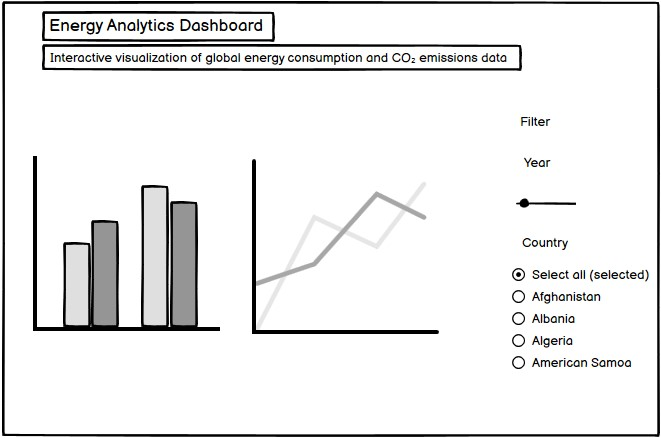

The dashboard page shown, as its layout file describes it:
{"tool":"powerbi","page":{"name":"Comparison","canvas":[1280,720],"ordinal":2},"visuals":[{"type":"textbox","box":[49.4,0,908.4,65],"z":0},{"type":"textbox","box":[49.4,49.4,915.5,46.6],"z":1000},{"type":"slicer","fields":{"Values":["cleaned_energy_data.Year"]},"box":[1059.6,96.1,199.2,113],"z":2000},{"type":"textbox","box":[1060.3,50,82.9,46],"z":3000},{"type":"lineChart","title":"Country Energy Consumption","fields":{"Series":["cleaned_energy_data.Country"],"Category":["cleaned_energy_data.Year"],"Y":["Sum(cleaned_energy_data.Energy_consumption)"]},"box":[9.9,436.6,1038.4,267],"z":6000},{"type":"actionButton","box":[0,0,100,40],"z":7000},{"type":"slicer","fields":{"Values":["cleaned_energy_data.Country"]},"box":[1061,251.5,199.2,435.1],"z":8001},{"type":"barChart","title":"CO₂ Emitters","fields":{"Y":["Sum(cleaned_energy_data.CO2_emission)"],"Category":["cleaned_energy_data.Country"]},"box":[17.3,124.1,1030.9,278.9],"z":8002}]}

Visuals, with their boxes on the page's 1280x720 design canvas (x1, y1, x2, y2). These are canvas units, not pixel positions in the 661x438 screenshot, which may show the page scaled, cropped or inside an application window:
textbox: 49/0/958/65
textbox: 49/49/965/96
slicer - cleaned_energy_data.Year: 1060/96/1259/209
textbox: 1060/50/1143/96
"Country Energy Consumption" lineChart: 10/437/1048/704
actionButton: 0/0/100/40
slicer - cleaned_energy_data.Country: 1061/252/1260/687
"CO₂ Emitters" barChart: 17/124/1048/403
